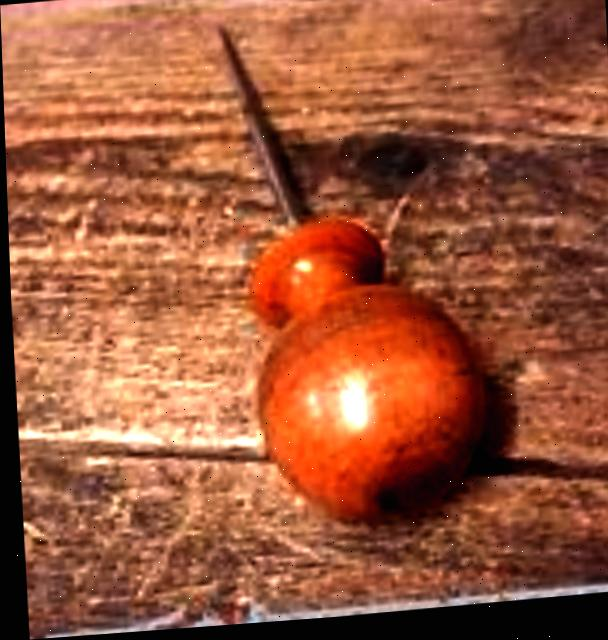ice pick: (218, 1, 490, 545)
